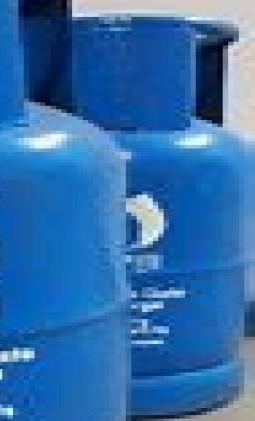cylinder: (1, 1, 255, 421)
